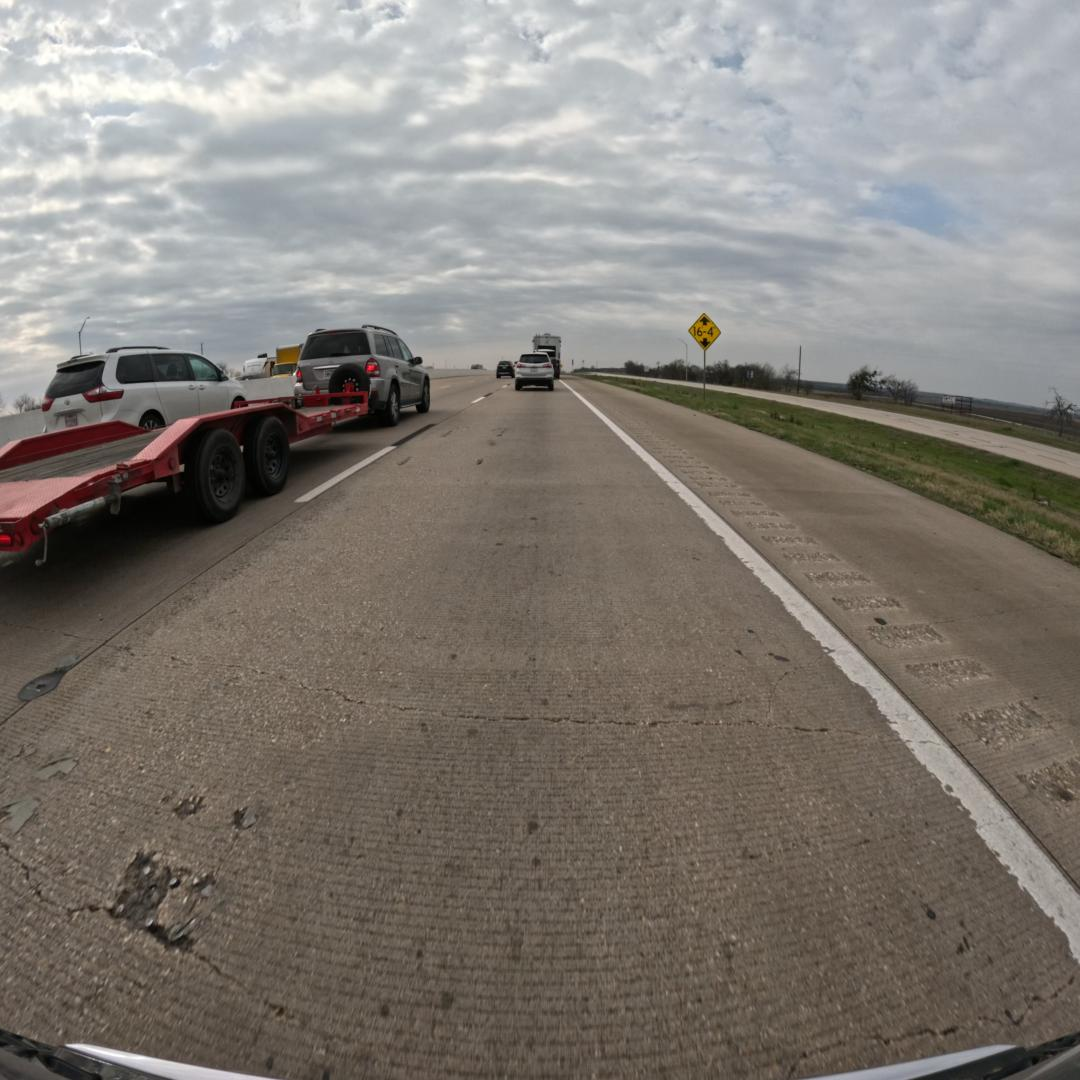lane0: (0, 383, 1080, 1077)
lane1: (0, 371, 509, 725)
